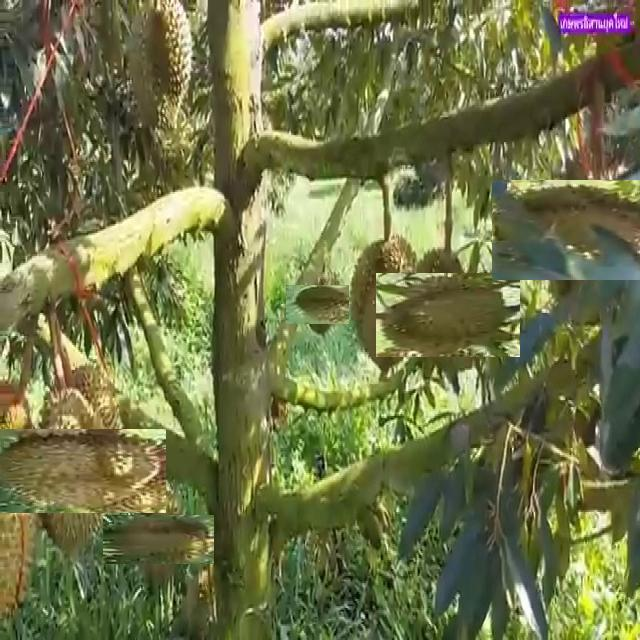durian: (515, 156, 640, 304), (10, 405, 142, 537), (391, 258, 506, 372), (349, 230, 427, 379), (123, 0, 196, 147), (118, 500, 199, 580), (295, 276, 354, 334)
